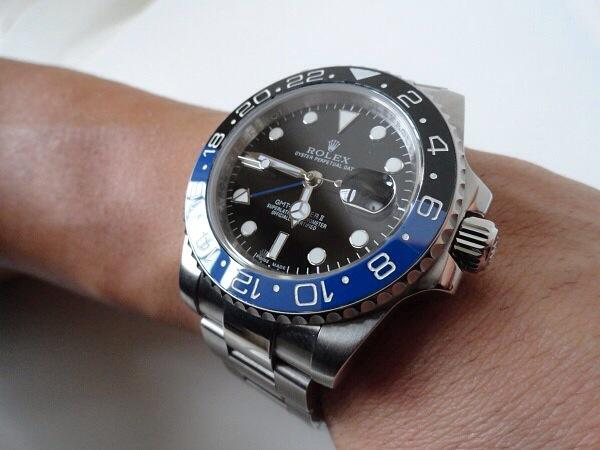clock: (224, 102, 416, 276)
